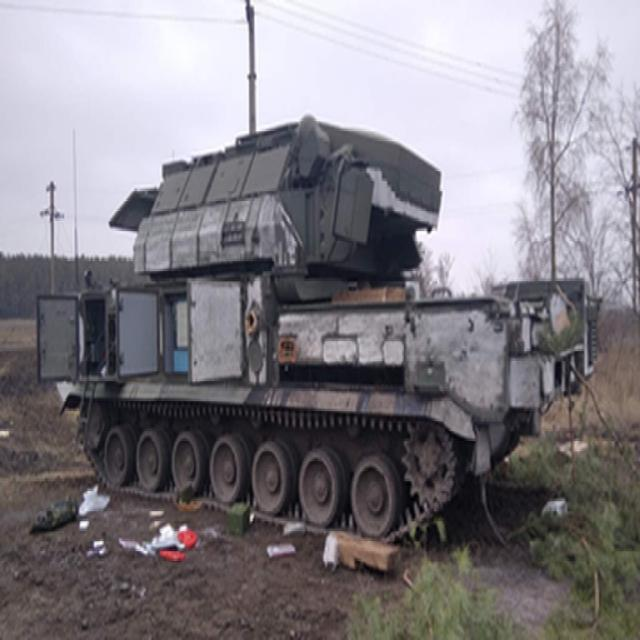MLRS: (30, 98, 600, 560)
